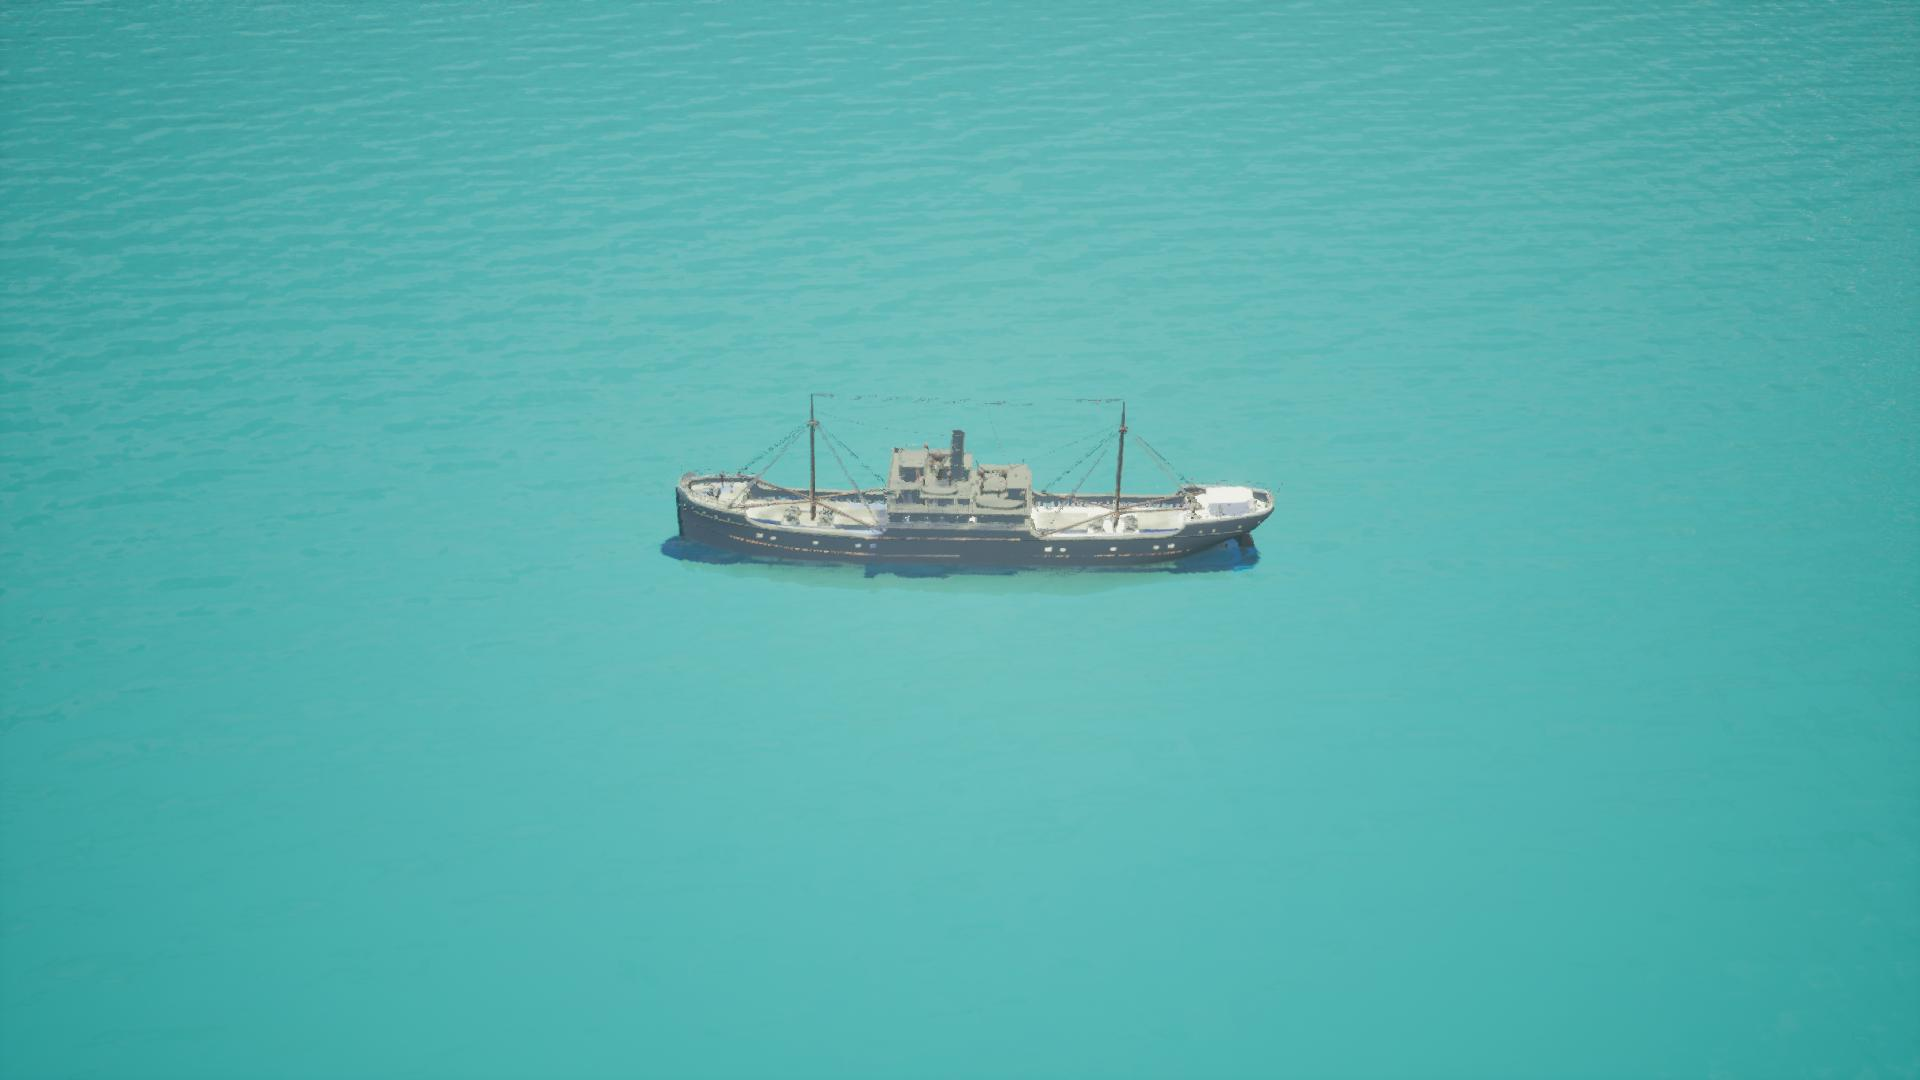Fishing Boat: (671, 400, 1274, 574), (1033, 407, 1279, 567), (675, 397, 887, 555)
